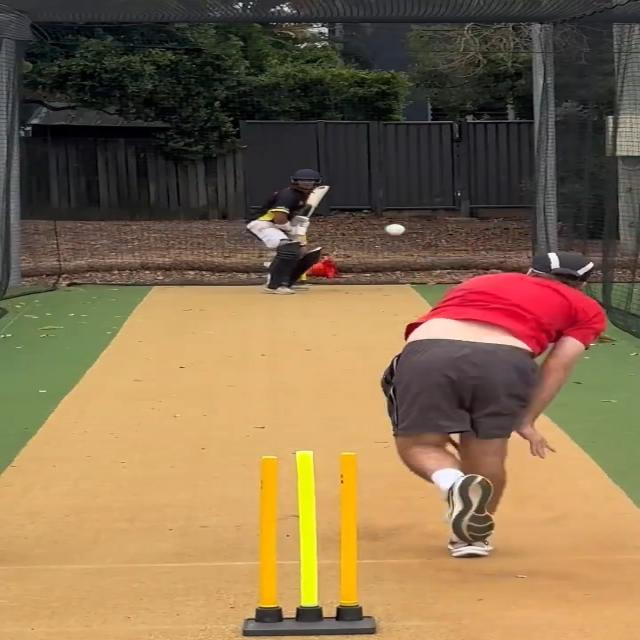ball: (382, 221, 407, 237)
stump: (238, 449, 378, 636)
